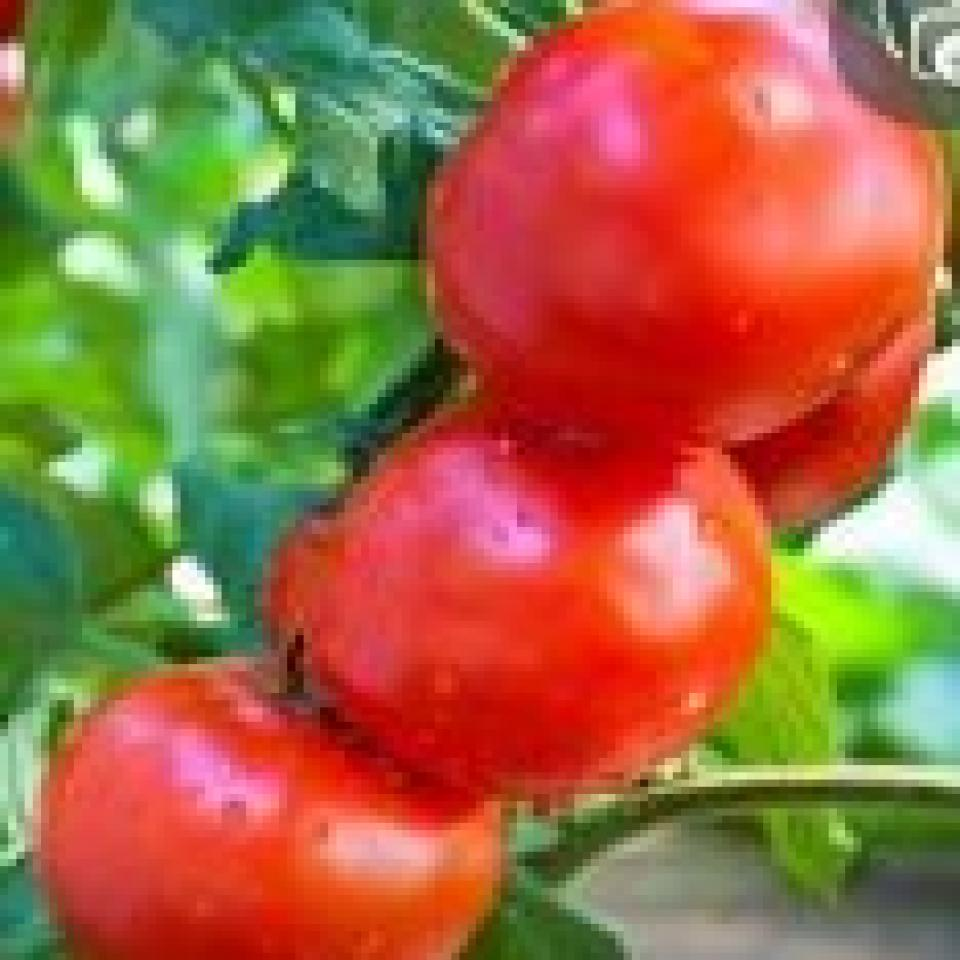Healthy: (306, 406, 813, 806), (430, 13, 920, 419), (44, 635, 524, 960)
